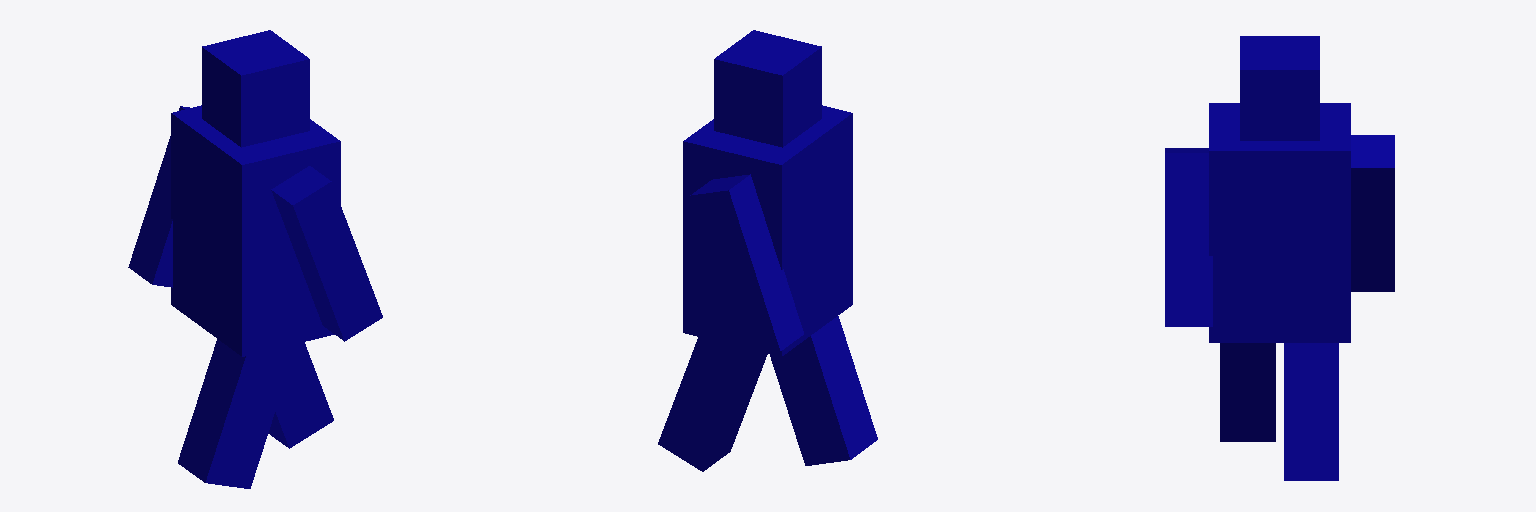
Rendered from enemy_blue_walk.obj.
3 views of the same model, side by side, from view 1: azimuth 30°, elevation 25°; view 2: azimuth 150°, elevation 25°; view 3: azimuth 270°, elevation 25° (orthographic).
Visible parts, largest first — view 1: body_Cube, leg.001_Cube.001, head_Cube.005, arm_left_Cube.002, leg_Cube.004, arm_right_Cube.003; view 2: body_Cube, arm_right_Cube.003, head_Cube.005, leg.001_Cube.001, leg_Cube.004; view 3: body_Cube, head_Cube.005, arm_left_Cube.002, leg_Cube.004, arm_right_Cube.003, leg.001_Cube.001.
Boxes of the visible parts, <box> form: body_Cube: <box>171,105,340,356</box>; leg.001_Cube.001: <box>178,339,296,488</box>; head_Cube.005: <box>202,30,309,147</box>; arm_left_Cube.002: <box>271,166,382,341</box>; leg_Cube.004: <box>268,342,333,448</box>; arm_right_Cube.003: <box>128,106,189,287</box>; body_Cube: <box>683,105,852,356</box>; arm_right_Cube.003: <box>690,174,803,356</box>; head_Cube.005: <box>714,30,821,147</box>; leg.001_Cube.001: <box>770,316,877,465</box>; leg_Cube.004: <box>658,337,767,471</box>; body_Cube: <box>1209,103,1350,342</box>; head_Cube.005: <box>1240,36,1319,140</box>; arm_left_Cube.002: <box>1165,148,1212,326</box>; leg_Cube.004: <box>1284,343,1338,480</box>; arm_right_Cube.003: <box>1351,135,1394,291</box>; leg.001_Cube.001: <box>1220,343,1275,441</box>.
Size of the model in its own units: 2.35 by 5.65 by 2.9.